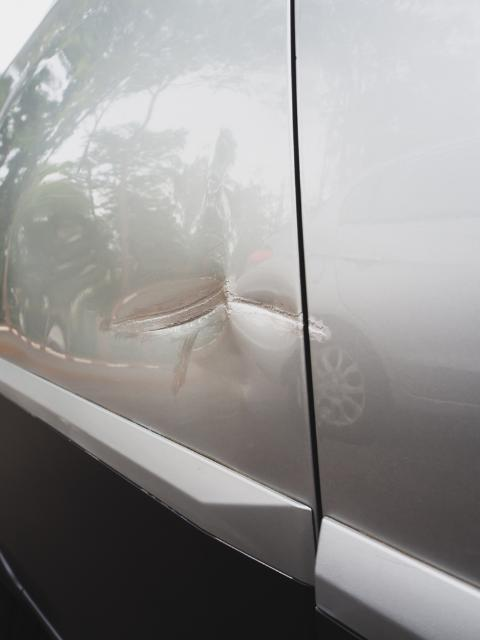dent: (105, 269, 304, 350)
scratch: (307, 314, 341, 344), (170, 346, 189, 398)
